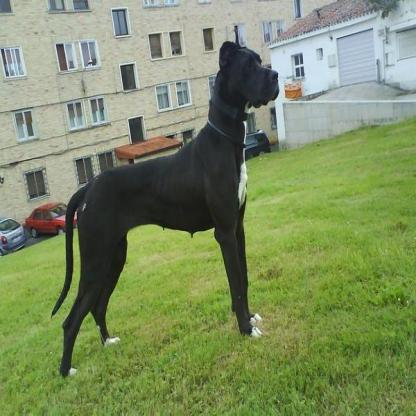Great_Dane: (49, 39, 280, 375)
